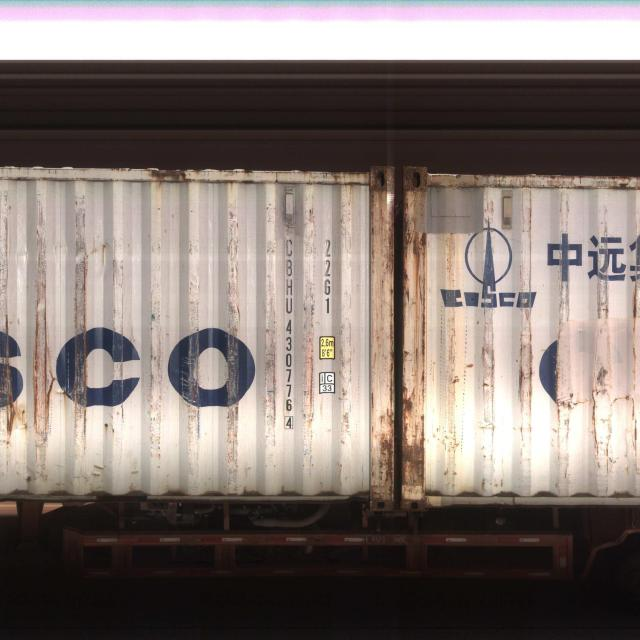rust: (73, 261, 90, 442), (34, 300, 55, 436), (552, 343, 575, 419), (3, 316, 16, 438), (404, 425, 426, 489), (585, 389, 603, 463), (380, 410, 396, 492), (405, 211, 427, 270), (517, 342, 535, 411), (144, 169, 198, 190), (483, 326, 496, 405), (305, 342, 317, 422), (385, 222, 396, 280), (403, 386, 419, 418)
